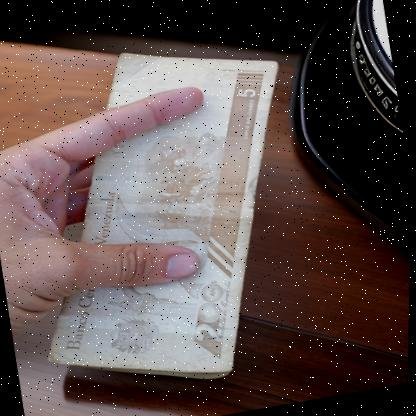five-back-vef: (0, 26, 330, 402)
